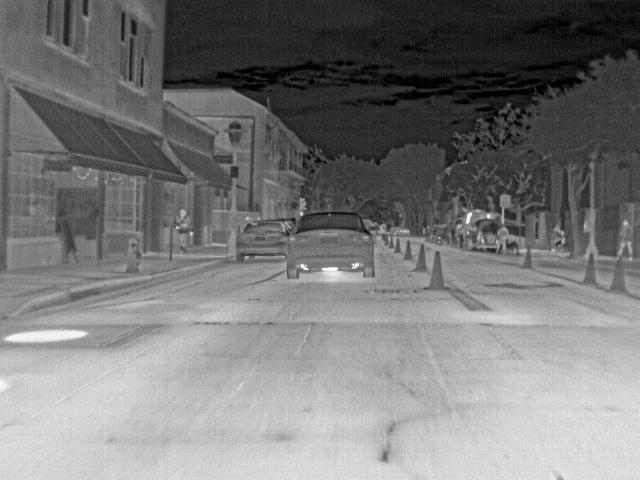car: (286, 211, 377, 279), (236, 220, 289, 262), (463, 218, 493, 252), (427, 224, 449, 242), (448, 222, 463, 242), (398, 226, 412, 237)
person: (175, 206, 195, 255), (616, 218, 635, 262), (495, 223, 510, 253), (551, 222, 565, 253)
